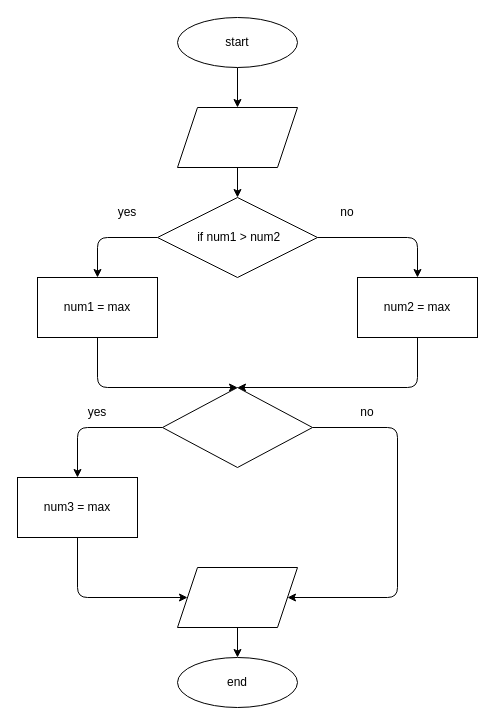
The diagram is 495 pixels wide and 725 high, and some of its shapes have lost their labels. Each missing label, with the centre of its shape:
"if num3 > max" belongs at point (237, 427).
"num1 num2 num3" belongs at point (237, 137).
"print max" belongs at point (237, 597).
